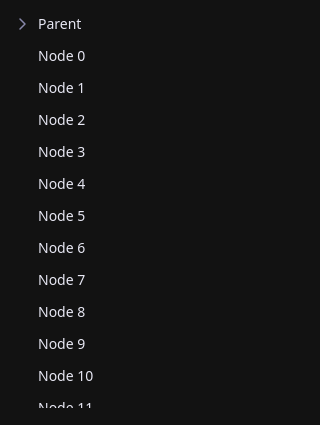
it: TkxTreeView › virtualization › expand/collapse in a windowed tree recomputes visible model correctly
Expected: the text "Kid A" is not shown
# Expand near the top of the window.
Click the text "Parent": (60, 24) [38,14,81,34]
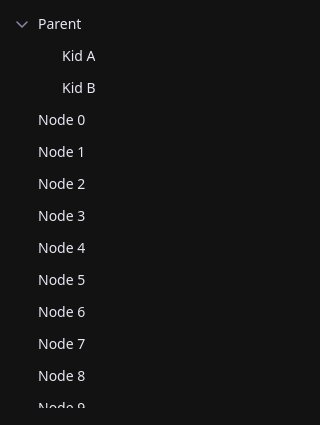
Expected: the list item "Kid A" has attribute aria-level="2", [62,46,96,65]
Expected: the list item "Kid A" has attribute aria-setsize="2", [62,46,96,65]
Expected: the list item "Kid A" has attribute aria-posinset="1", [62,46,96,65]
# Collapse again: children drop back out of the visible model.
Click the text "Parent": (60, 24) [38,14,81,34]
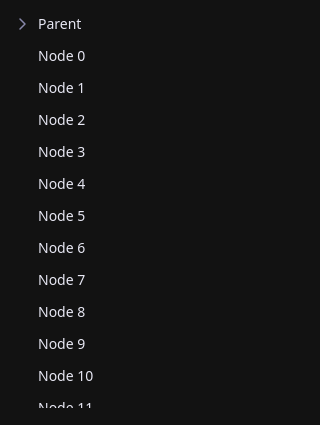
Expected: the text "Kid A" is gone
